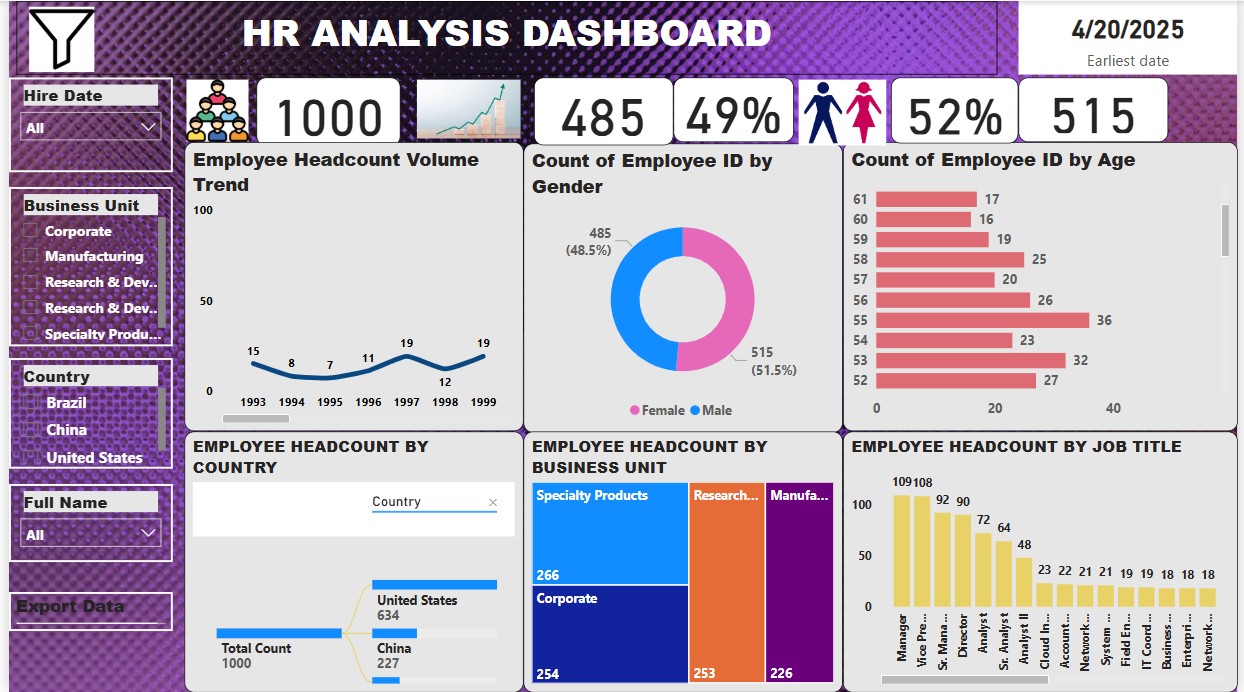

The page's visual inventory and layout, read from the dashboard file:
{"tool":"powerbi","page":{"name":"HR ANALYSIS","canvas":[1280,720],"ordinal":0},"visuals":[{"type":"card","fields":{"Values":["CountNonNull(Employee Data.Employee ID)"]},"box":[258.1,79,150.2,71.3],"z":0},{"type":"decompositionTreeVisual","title":"EMPLOYEE HEADCOUNT BY COUNTRY","fields":{"Analyze":["CountNonNull(Employee Data.Country)"],"ExplainBy":["Employee Data.Country"]},"box":[182.9,448.6,353.2,272],"z":1000},{"type":"donutChart","fields":{"Category":["Employee Data.Gender"],"Y":["CountNonNull(Employee Data.Employee ID)"]},"box":[536.1,148.5,332.9,301.7],"z":2000},{"type":"clusteredBarChart","fields":{"Category":["Employee Data.Age"],"Y":["CountNonNull(Employee Data.Employee ID)"]},"box":[869,146.9,411.1,301.7],"z":3000},{"type":"lineChart","title":" Employee Headcount Volume Trend","fields":{"Y":["CountNonNull(Employee Data.Employee ID)"],"Category":["Employee Data.Hire Date.Variation.Date Hierarchy.Year"]},"box":[182.9,146.9,353.2,301.7],"z":4000},{"type":"treemap","title":"EMPLOYEE HEADCOUNT BY BUSINESS UNIT","fields":{"Values":["CountNonNull(Employee Data.Employee ID)"],"Group":["Employee Data.Business Unit"]},"box":[536.1,448.6,332.9,272],"z":5000},{"type":"columnChart","title":"EMPLOYEE HEADCOUNT BY JOB TITLE","fields":{"Category":["Employee Data.Job Title"],"Y":["CountNonNull(Employee Data.Employee ID)"]},"box":[869,448.6,411.1,272],"z":6000},{"type":"card","fields":{"Values":["Employee Data.Total_male_count"]},"box":[547,79.7,145.4,70.3],"z":7000},{"type":"card","fields":{"Values":["Employee Data.Total_Female_count"]},"box":[1051.9,79.7,156.3,67.2],"z":8000},{"type":"card","fields":{"Values":["Employee Data.Male %"]},"box":[692.4,79.7,125,67.2],"z":9000},{"type":"card","fields":{"Values":["Employee Data.feMale %"]},"box":[919,79.7,132.9,68.8],"z":10000},{"type":"textbox","box":[7.8,0,1022.2,76.6],"z":11000},{"type":"slicer","fields":{"Values":["Employee Data.Business Unit"]},"box":[0,193.8,170.4,165.7],"z":12000},{"type":"slicer","fields":{"Values":["Employee Data.Country"]},"box":[0,372,170.4,115.7],"z":13000},{"type":"slicer","fields":{"Values":["Employee Data.Hire Date"]},"box":[0,79.7,170.4,98.5],"z":14000},{"type":"card","fields":{"Values":["Min(Query1.date)"]},"box":[1051.9,0,228.2,76.6],"z":15000},{"type":"image","box":[817.4,71.9,101.6,89.1],"z":16000},{"type":"image","box":[146.4,77,140.6,75.1],"z":17000},{"type":"image","box":[15.6,0,78.1,79.7],"z":18000},{"type":"image","box":[411.1,76.6,136,71.9],"z":19000},{"type":"slicer","fields":{"Values":["Employee Data.Full Name"]},"box":[0,503.3,170.4,81.3],"z":20000},{"type":"tableEx","title":"Export Data","fields":{"Values":["Employee Data.Full Name","Employee Data.Gender","Employee Data.feMale %"]},"box":[0,615.8,170.4,40.6],"z":21000}]}

Visuals, with their boxes in screenshot pixels (x1, y1, x2, y2), scaled from the page's 1280x720 canvas onto the 1244x692 screenshot:
card - CountNonNull(Employee Data.Employee ID): left=251, top=76, right=397, bottom=144
"EMPLOYEE HEADCOUNT BY COUNTRY" decompositionTreeVisual: left=178, top=431, right=521, bottom=691
donutChart - Employee Data.Gender x CountNonNull(Employee Data.Employee ID): left=521, top=143, right=845, bottom=433
clusteredBarChart - Employee Data.Age x CountNonNull(Employee Data.Employee ID): left=845, top=141, right=1243, bottom=431
" Employee Headcount Volume Trend" lineChart: left=178, top=141, right=521, bottom=431
"EMPLOYEE HEADCOUNT BY BUSINESS UNIT" treemap: left=521, top=431, right=845, bottom=691
"EMPLOYEE HEADCOUNT BY JOB TITLE" columnChart: left=845, top=431, right=1243, bottom=691
card - Employee Data.Total_male_count: left=532, top=77, right=673, bottom=144
card - Employee Data.Total_Female_count: left=1022, top=77, right=1174, bottom=141
card - Employee Data.Male %: left=673, top=77, right=794, bottom=141
card - Employee Data.feMale %: left=893, top=77, right=1022, bottom=143
textbox: left=8, top=0, right=1001, bottom=74
slicer - Employee Data.Business Unit: left=0, top=186, right=166, bottom=346
slicer - Employee Data.Country: left=0, top=358, right=166, bottom=469
slicer - Employee Data.Hire Date: left=0, top=77, right=166, bottom=171
card - Min(Query1.date): left=1022, top=0, right=1243, bottom=74
image: left=794, top=69, right=893, bottom=155
image: left=142, top=74, right=279, bottom=146
image: left=15, top=0, right=91, bottom=77
image: left=400, top=74, right=532, bottom=143
slicer - Employee Data.Full Name: left=0, top=484, right=166, bottom=562
"Export Data" tableEx: left=0, top=592, right=166, bottom=631
